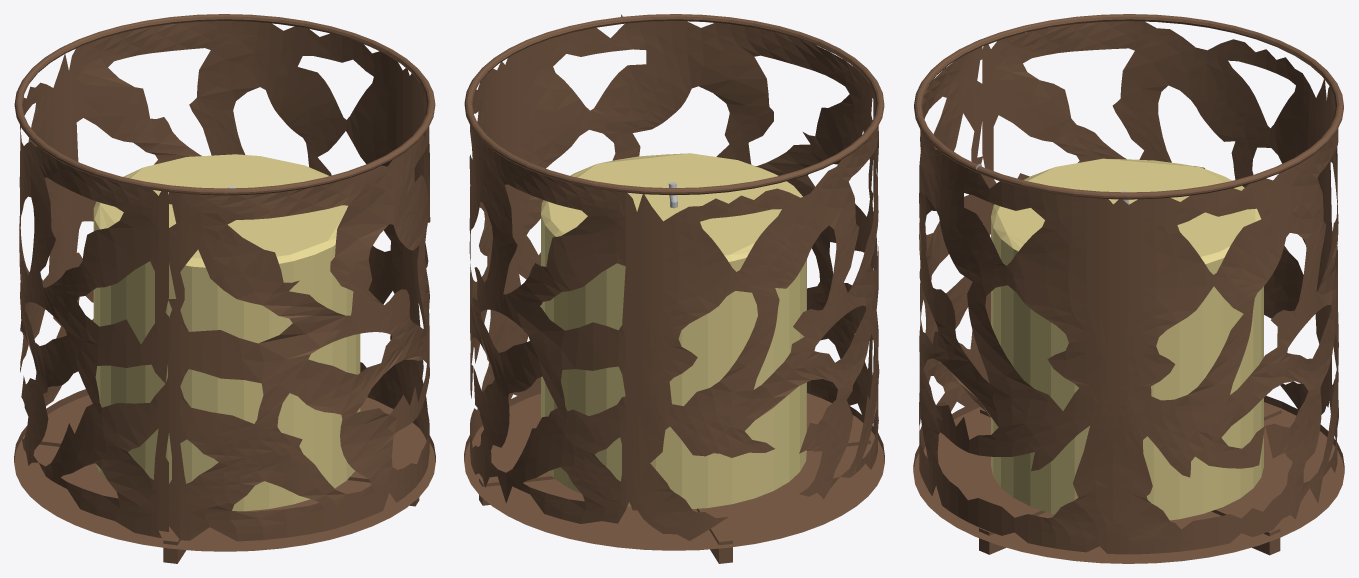
The model's file is sh-scopia-complements2.glb.
3 renders of one model, left to right at view 1: azimuth 30°, elevation 25°; view 2: azimuth 150°, elevation 25°; view 3: azimuth 270°, elevation 25°, orthographic. The views are drawn at different scales.
Visible parts, largest first — view 1: shape2_Plane.002, candle2_Tube.001_vela; view 2: shape2_Plane.002, candle2_Tube.001_vela; view 3: shape2_Plane.002, candle2_Tube.001_vela.
Boxes of the visible parts, box(x1,y1,x2,y2) form: shape2_Plane.002: box(14, 14, 435, 563); candle2_Tube.001_vela: box(93, 154, 360, 511); shape2_Plane.002: box(464, 14, 884, 563); candle2_Tube.001_vela: box(541, 153, 806, 508); shape2_Plane.002: box(913, 14, 1344, 563); candle2_Tube.001_vela: box(991, 158, 1263, 520).
Size of the model in its own units: 1 by 1 by 1.
